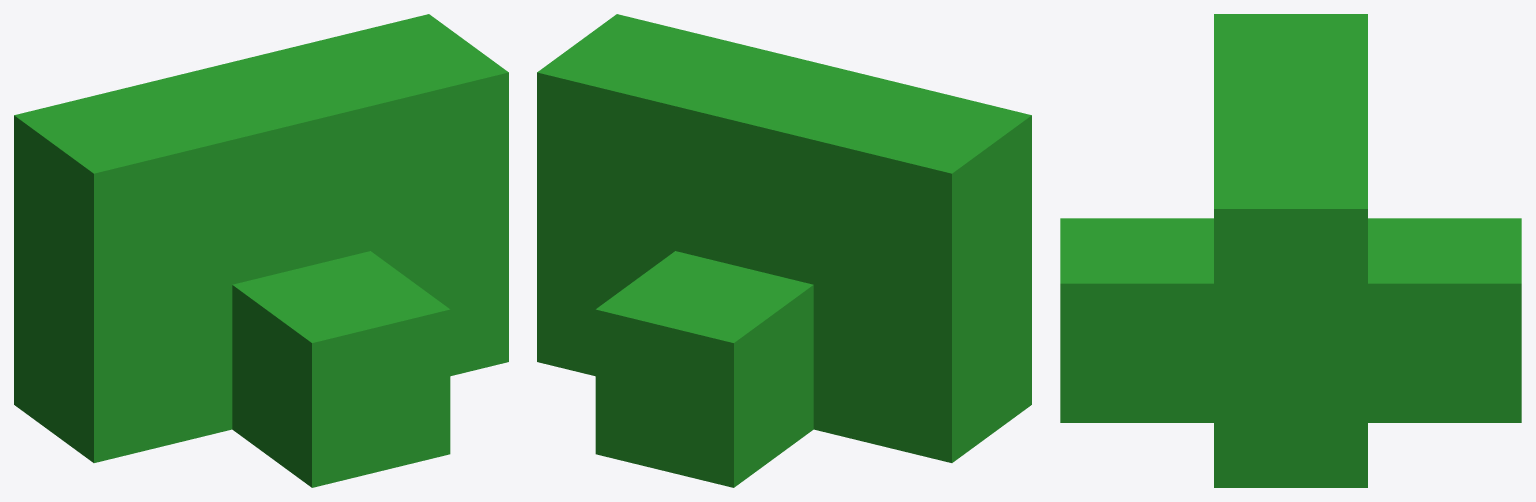
File: small bush.glb
The picture shows the model from 3 angles, left to right: view 1: azimuth 30°, elevation 25°; view 2: azimuth 150°, elevation 25°; view 3: azimuth 270°, elevation 25°; orthographic projection. The views are drawn at different scales.
Visible parts, largest first — view 1: pl0; view 2: pl0; view 3: pl0.
Part boxes in pixels (x1,y1,x2,y2): pl0: (14, 14, 508, 487); pl0: (537, 14, 1031, 487); pl0: (1060, 14, 1521, 487).
Size of the model in its own units: 0.3 by 0.2 by 0.3.
Materials: 1 (1 with a texture image).
